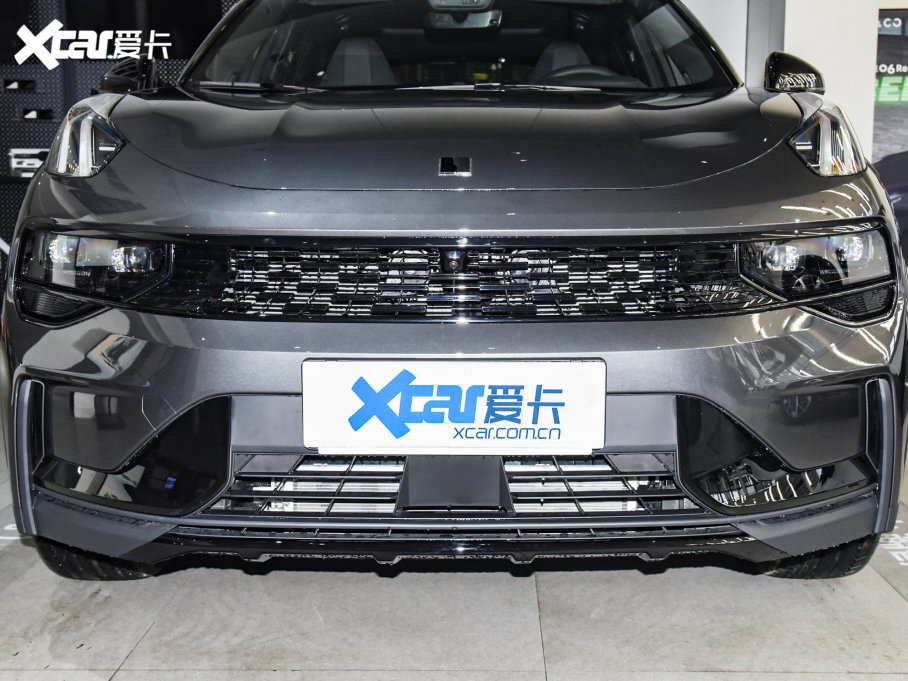LINK&CO: (440, 157, 471, 172)
